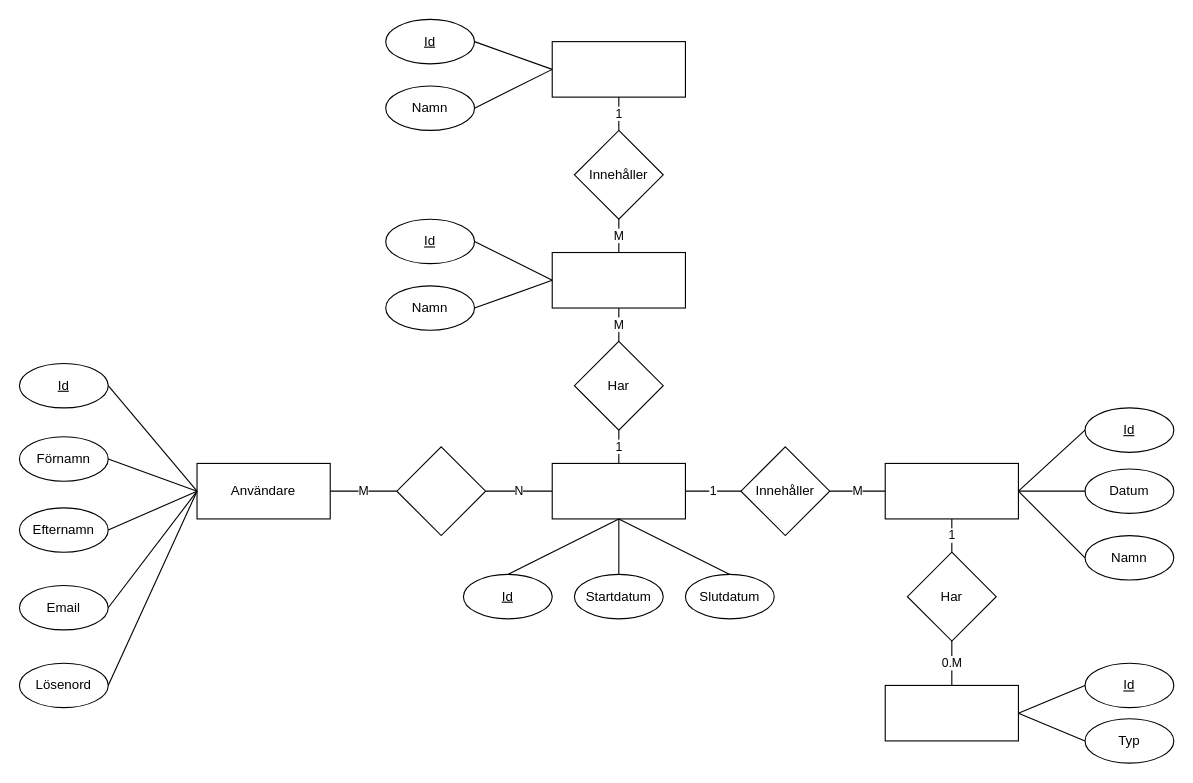
Image size: 1193x783. Some labels were removed from this diagram. Each missing label, with the box of its shape:
Administrerar: (396, 446, 486, 536)
Kommun: (551, 41, 685, 97)
Maträtt: (884, 462, 1018, 519)
Matsedel: (551, 462, 685, 519)
Matspecifikation: (884, 684, 1018, 741)
Skola: (551, 251, 685, 308)
